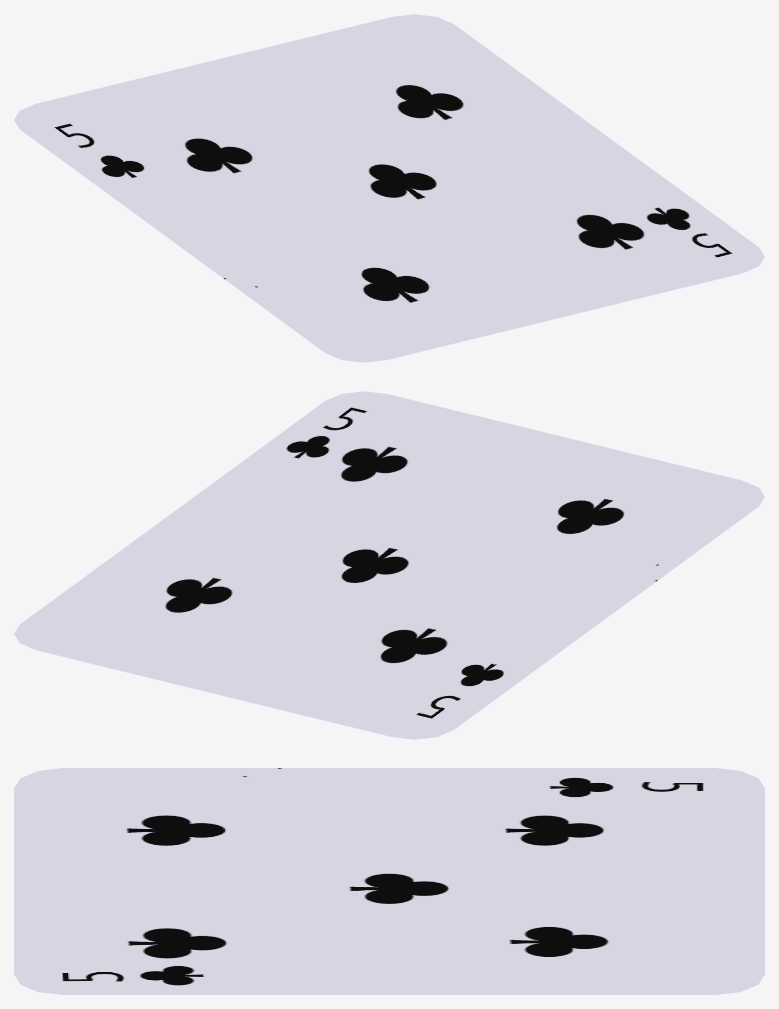
The model's file is Card.fbx.
3 renders of one model, top to bottom at view 1: azimuth 30°, elevation 25°; view 2: azimuth 150°, elevation 25°; view 3: azimuth 270°, elevation 25°, orthographic. The views are drawn at different scales.
Visible parts, largest first — view 1: Plane; view 2: Plane; view 3: Plane.
Part boxes in pixels (bbox=[...]): Plane: bbox=[14, 14, 764, 362]; Plane: bbox=[14, 391, 764, 739]; Plane: bbox=[14, 768, 764, 994].
Size of the model in its own units: 200 by 4.56e-05 by 280.
